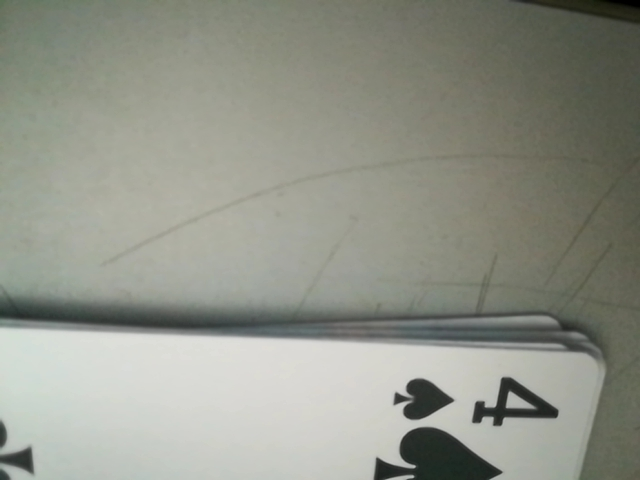ht 4: (384, 364, 563, 433)
